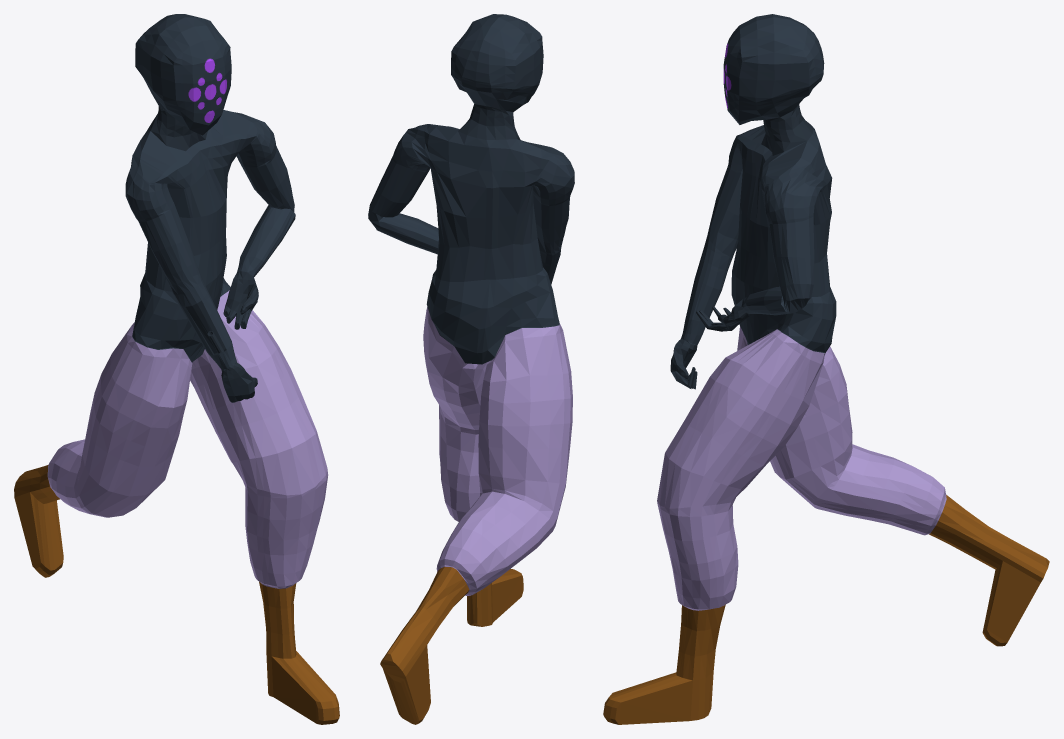
File: Oracle_Run_000027.obj
3 renders of one model, left to right at view 1: azimuth 30°, elevation 25°; view 2: azimuth 150°, elevation 25°; view 3: azimuth 270°, elevation 25°, orthographic. The views are drawn at different scales.
Parts seen in each view (by area): view 1: Cube; view 2: Cube; view 3: Cube.
Boxes of the visible parts, x1,y1,x2,y2 form: Cube: [14, 14, 339, 724]; Cube: [368, 14, 574, 724]; Cube: [603, 14, 1049, 724].
Bounding box in the file's own units: 1.19 × 3.73 × 2.25.
